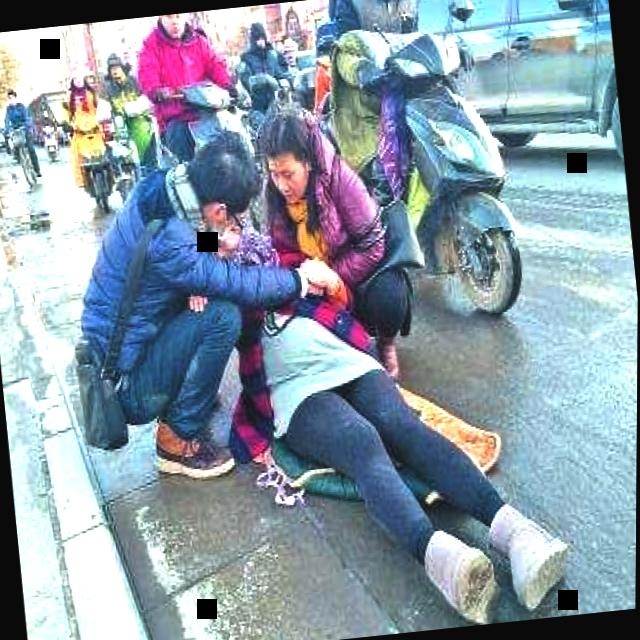Fall-Detected: (205, 182, 588, 634)
